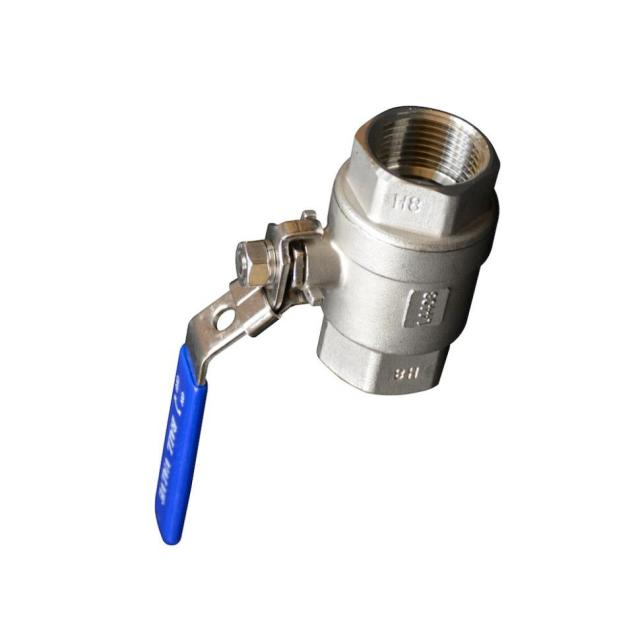opened_valve: (146, 100, 500, 547)
